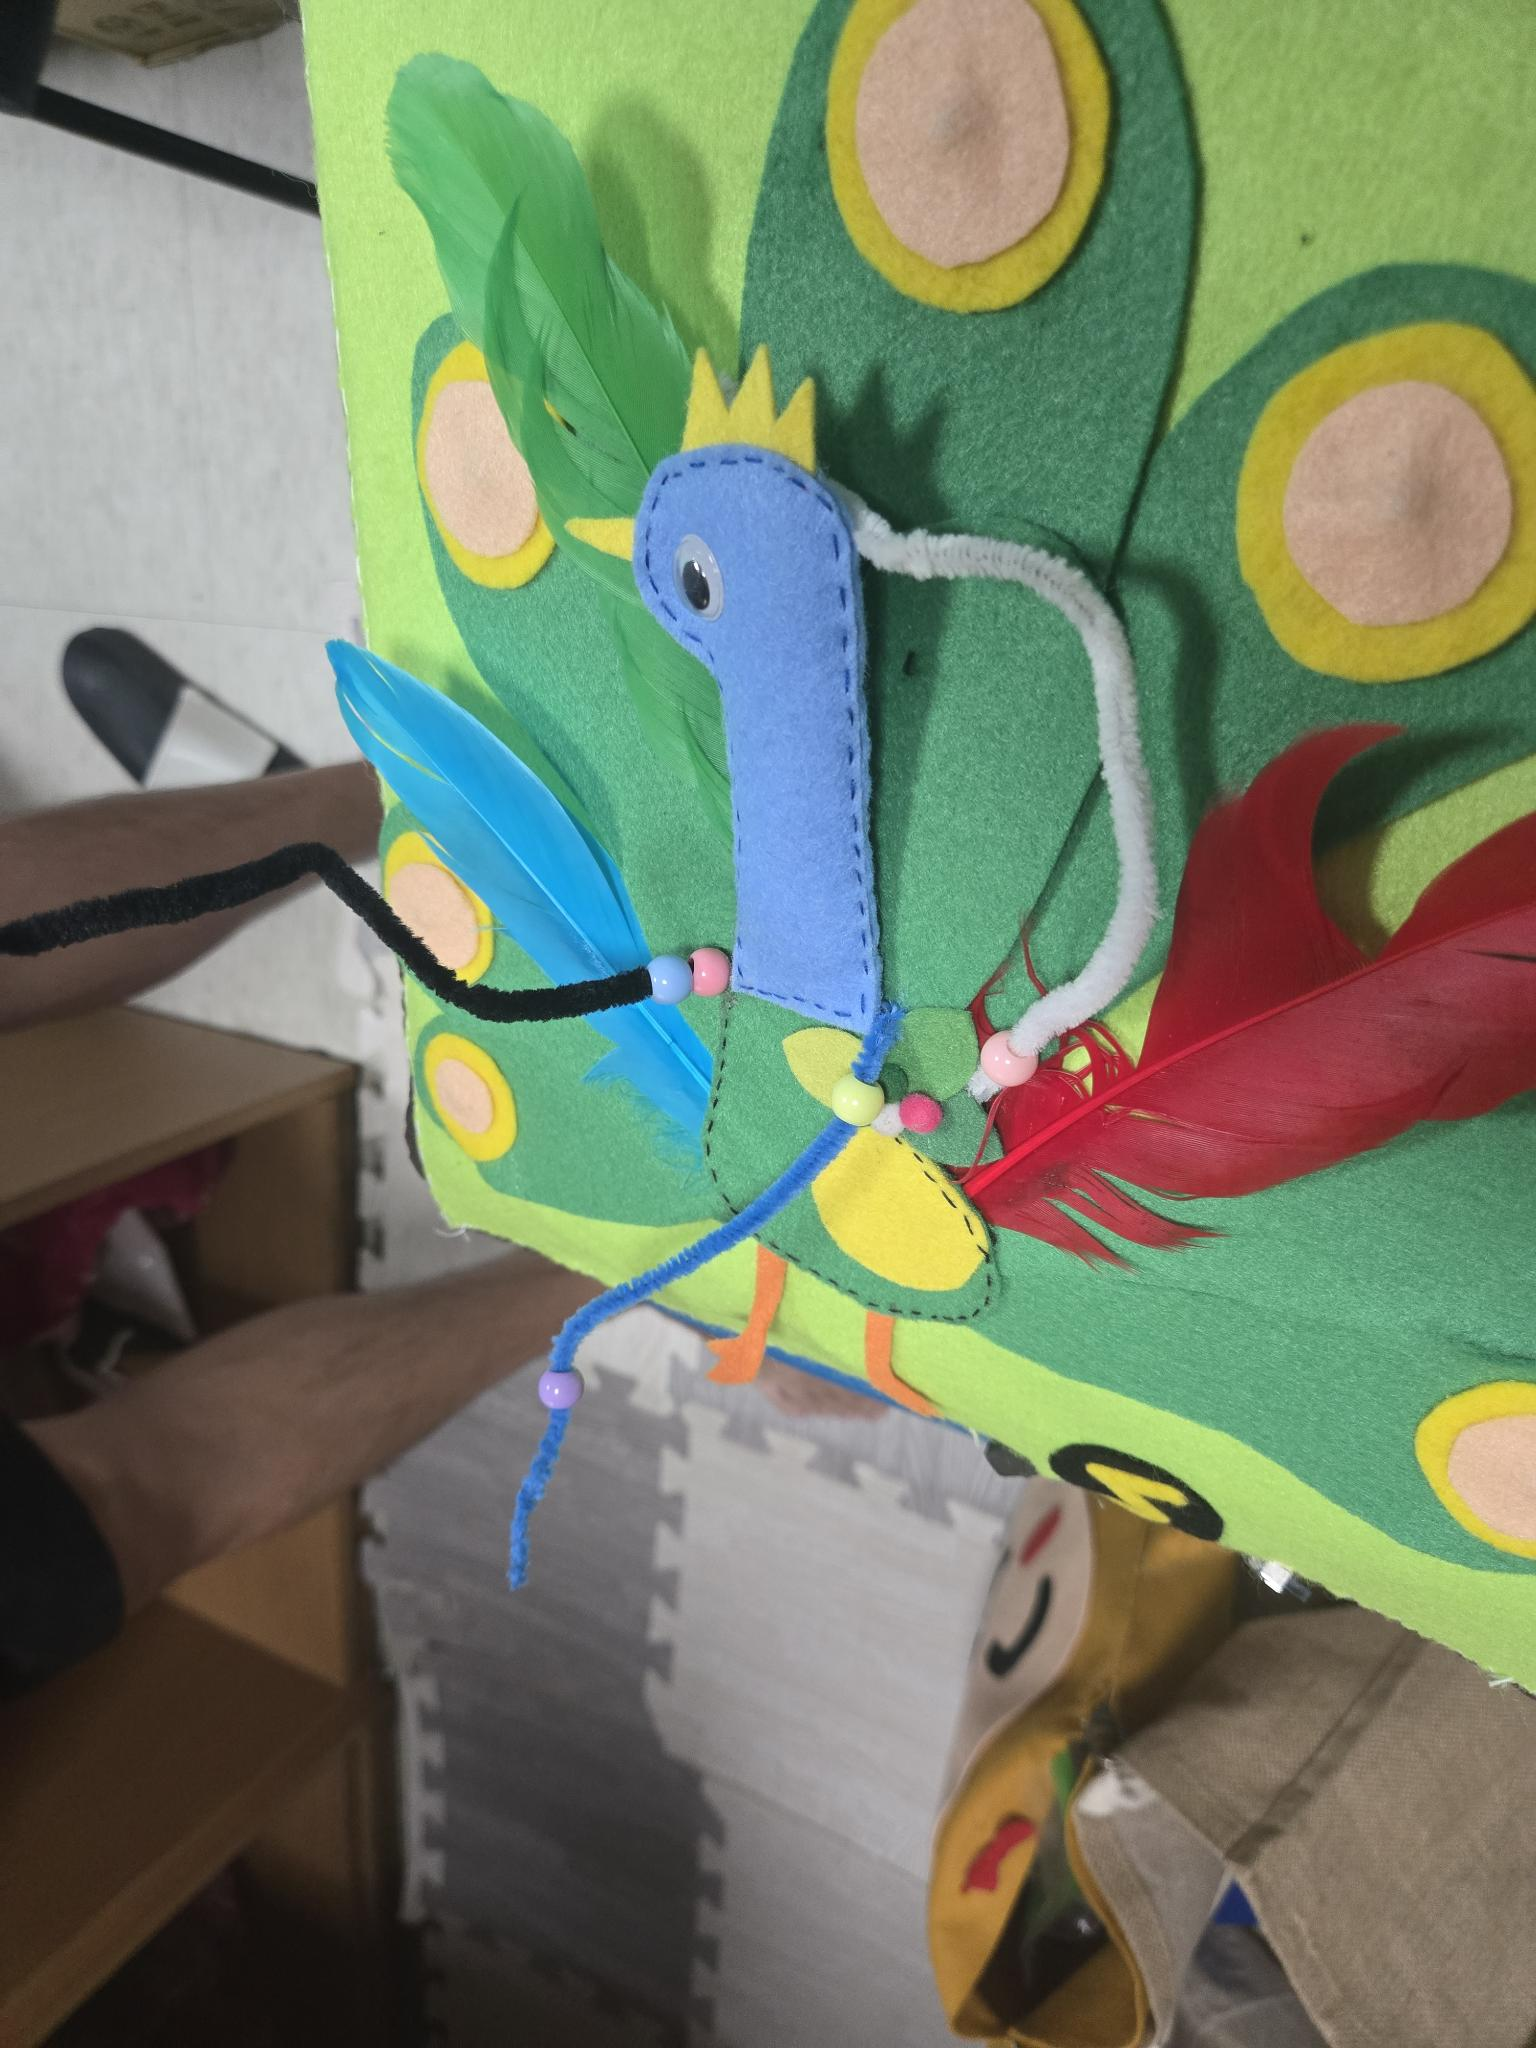bead: (676, 908, 756, 1030), (522, 1358, 608, 1456), (974, 1014, 1050, 1112), (630, 928, 686, 1026)
